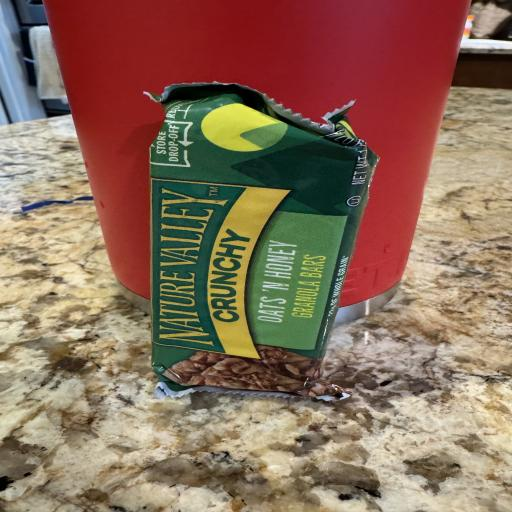granola: (150, 83, 377, 397)
